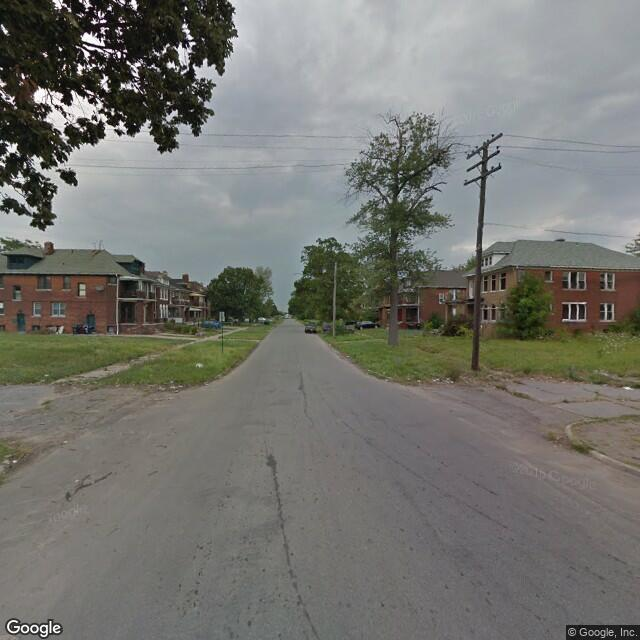litter: (623, 383, 638, 393), (433, 377, 453, 383), (157, 384, 184, 388), (191, 363, 203, 369), (41, 373, 53, 379), (8, 457, 17, 463), (383, 378, 393, 383), (344, 353, 351, 358)
